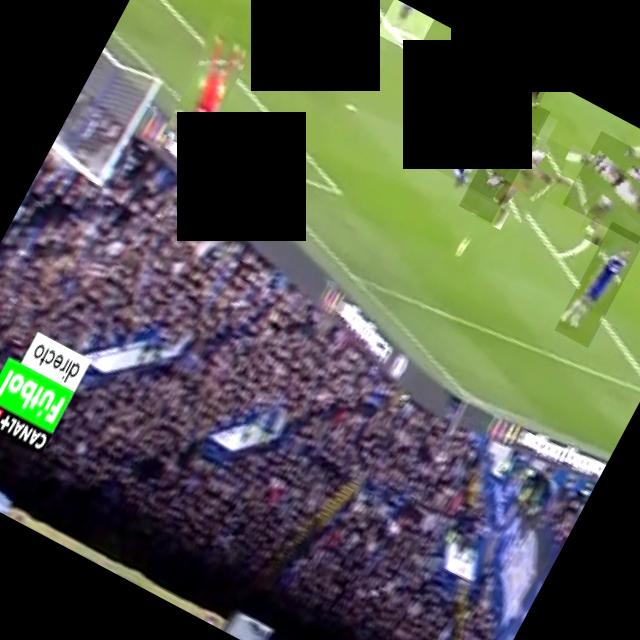goalkeeper: (156, 10, 266, 154)
soccer-player: (458, 110, 571, 223), (458, 92, 550, 222), (422, 90, 529, 198), (553, 220, 640, 346), (561, 129, 640, 242), (374, 0, 433, 53), (504, 64, 550, 108), (612, 120, 640, 165)
